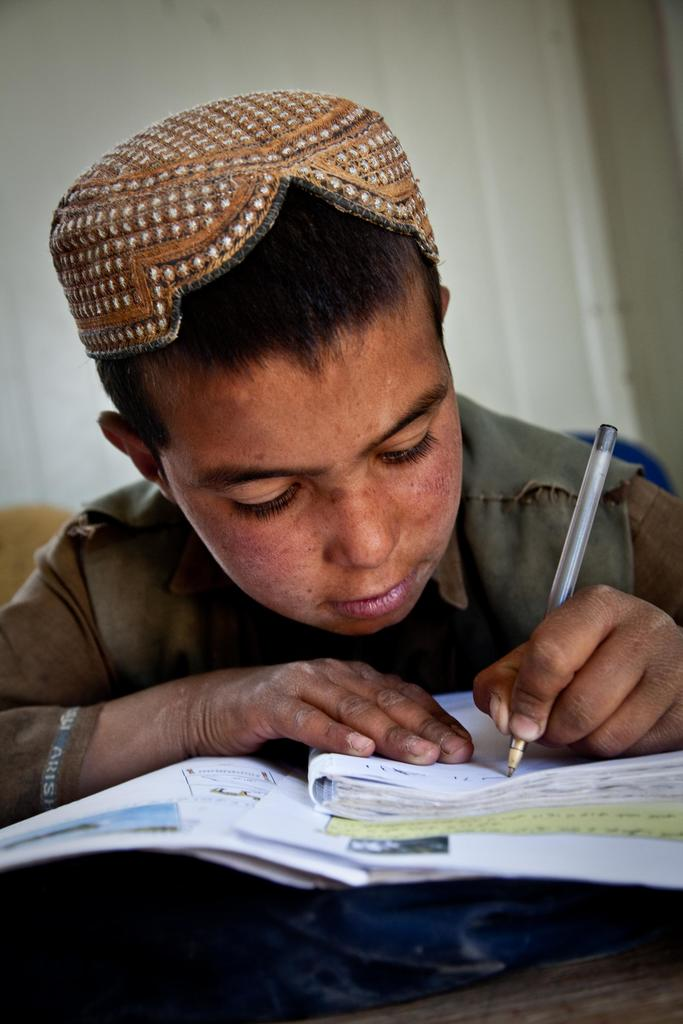Person: (0, 89, 683, 825)
